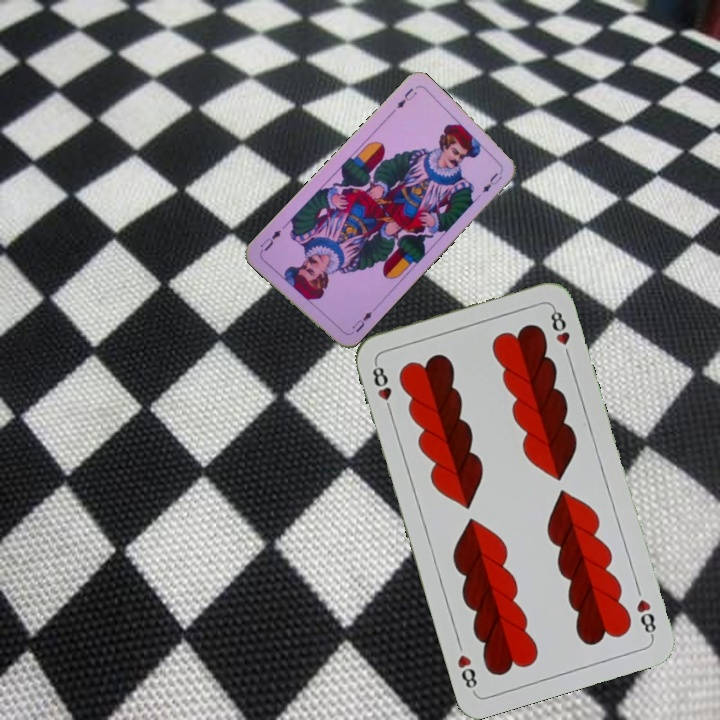EU: (345, 305, 377, 337), (393, 84, 420, 111)
H8: (368, 358, 395, 416), (632, 595, 659, 640)
